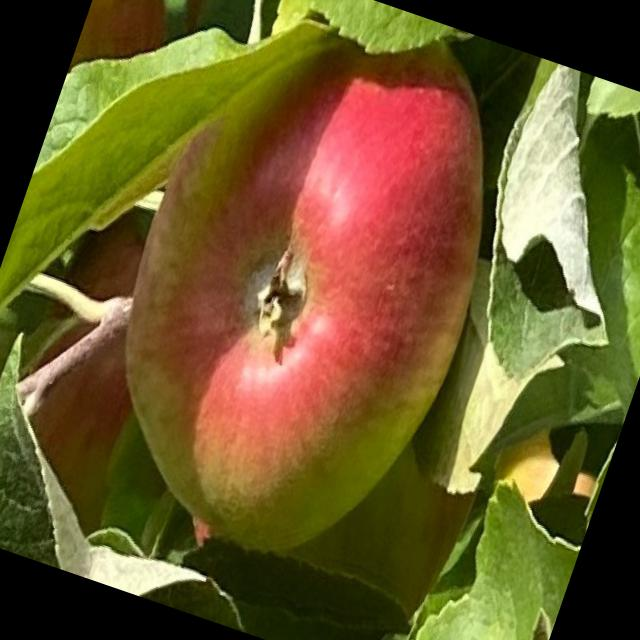Apples: (63, 0, 540, 589), (0, 214, 193, 528)
